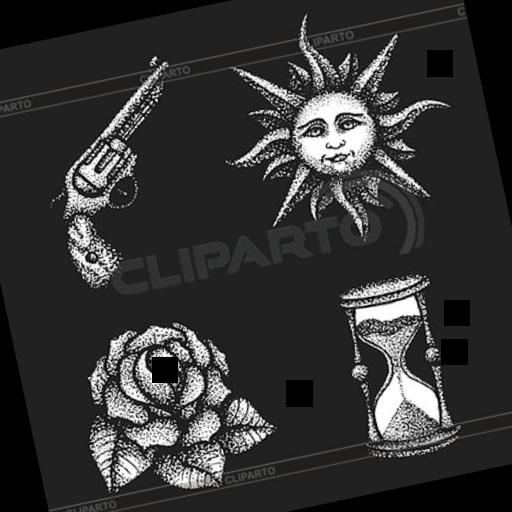Handgun: (2, 40, 212, 306)
